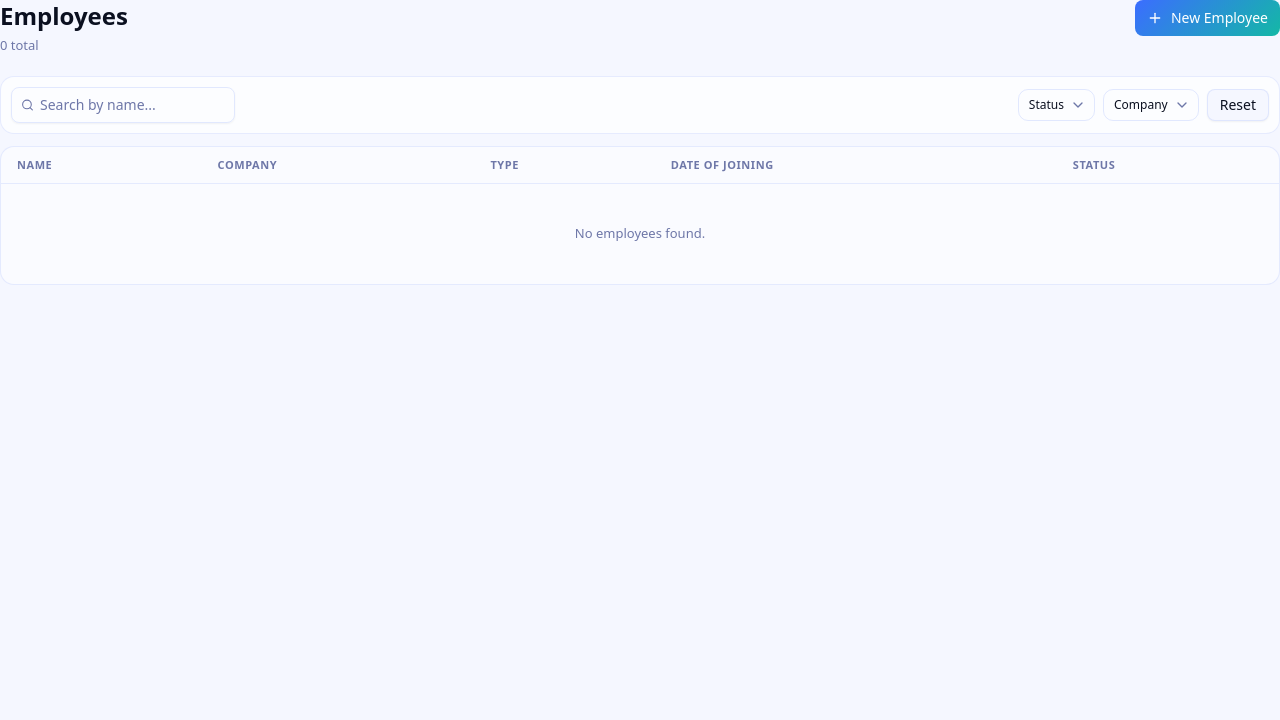
EmployeesListPage › excludes the "system" and "admin" role types from the New Employee role-type picker
Click the button "New Employee" at (1207, 18), box x1=1135 y1=0 x2=1279 y2=36
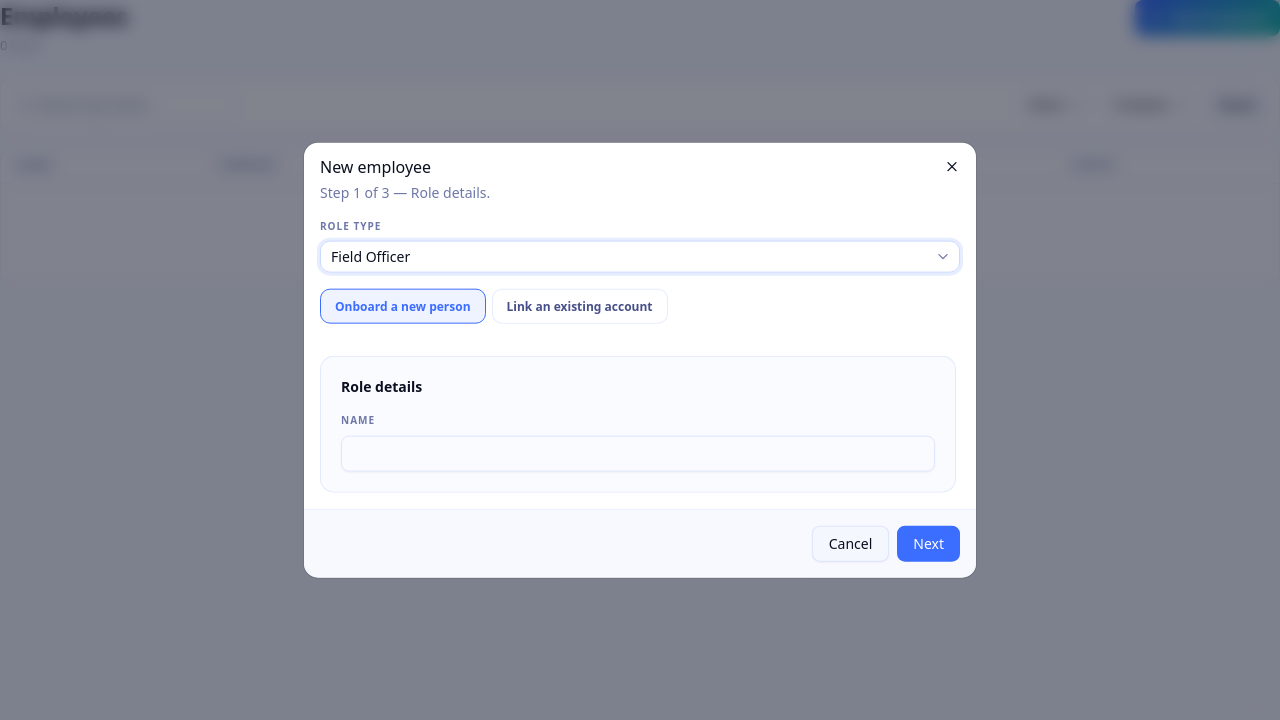
Click the dropdown named "role type" at (371, 256), box x1=320 y1=241 x2=960 y2=273
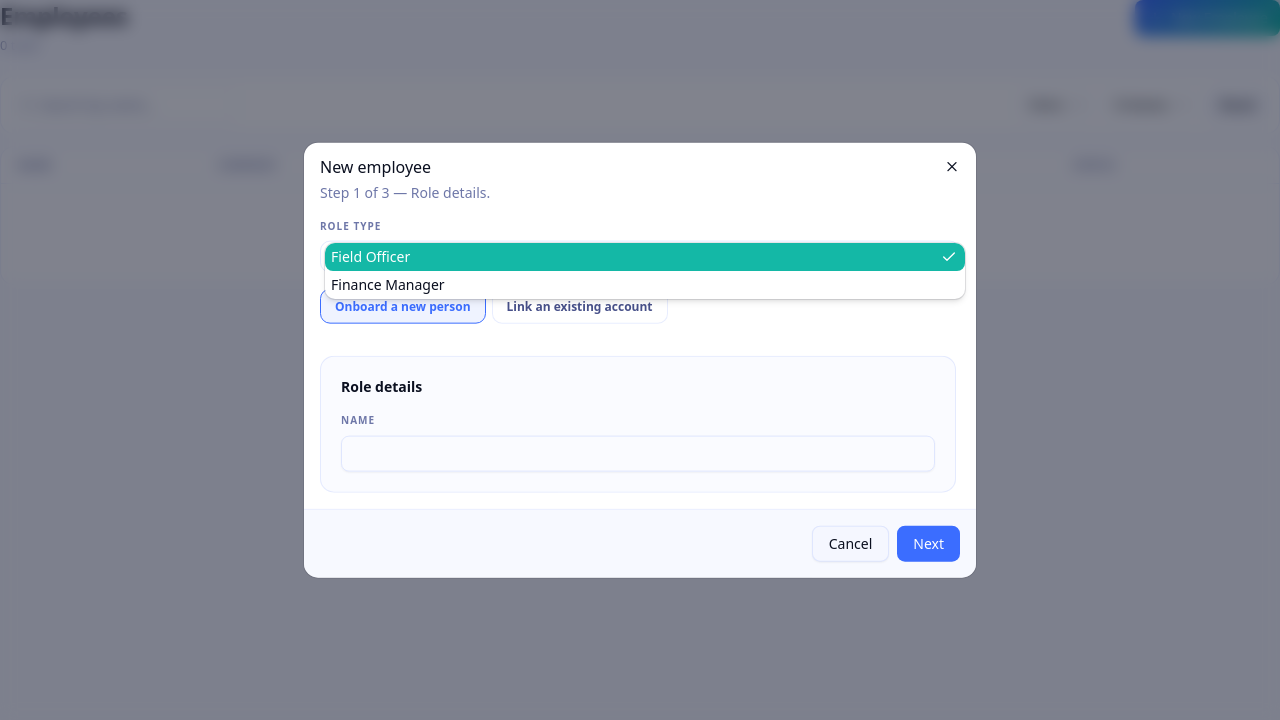
Result: the option "Field Officer" is shown at x1=325 y1=243 x2=965 y2=271
Result: the option "Finance Manager" is shown at x1=331 y1=275 x2=445 y2=294
